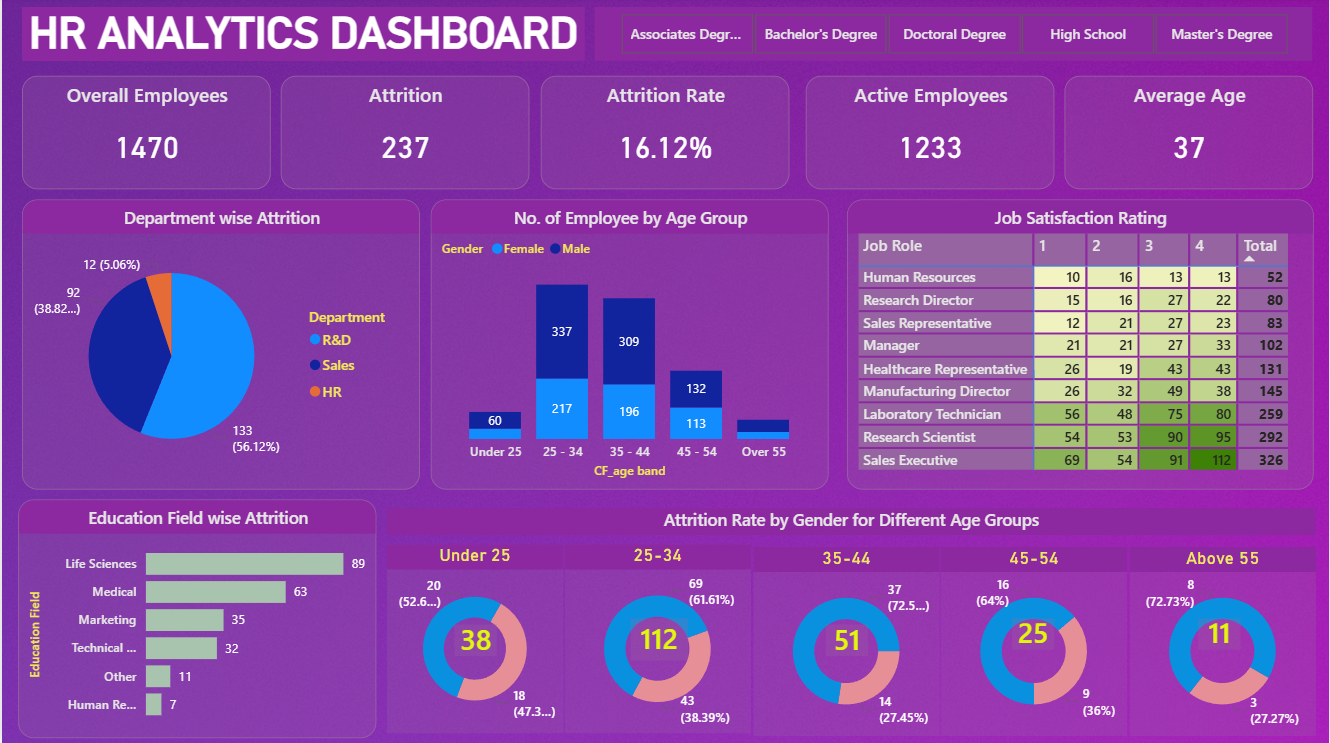

This screenshot's page, from the dashboard's own definition file:
{"tool":"powerbi","page":{"name":"Page 1","canvas":[1280,720],"ordinal":0},"visuals":[{"type":"card","title":"Overall Employees","fields":{"Values":["Sum(HR data.Employee Count)"]},"box":[19.2,75.5,240.1,109.8],"z":0},{"type":"card","title":"Attrition","fields":{"Values":["Sum(HR data.Attrition Count)"]},"box":[269,75.5,240.1,109.8],"z":1000},{"type":"card","title":"Attrition Rate","fields":{"Values":["HR data.Attrition Rate"]},"box":[520.1,75.5,240.1,109.8],"z":2000},{"type":"card","title":"Active Employees","fields":{"Values":["HR data.Active Employees"]},"box":[775.3,75.5,240.1,109.8],"z":3000},{"type":"card","title":"Average Age","fields":{"Values":["Avg(HR data.Age)"]},"box":[1025,75.5,240.1,109.8],"z":4000},{"type":"pieChart","title":"Department wise Attrition","fields":{"Category":["HR data.Department"],"Y":["Sum(HR data.Attrition Count)"]},"box":[19.2,194.9,384.2,279.9],"z":5000},{"type":"columnChart","title":"No. of Employee by Age Group","fields":{"Category":["HR data.CF_age band"],"Y":["Sum(HR data.Employee Count)"],"Series":["HR data.Gender"]},"box":[414.4,194.9,384.2,279.9],"z":6000},{"type":"pivotTable","title":"Job Satisfaction Rating","fields":{"Rows":["HR data.Job Role"],"Columns":["HR data.Job Satisfaction"],"Values":["Sum(HR data.Employee Count)"]},"box":[815.1,194.9,450.1,279.9],"z":7000},{"type":"barChart","title":" Education Field wise Attrition","fields":{"Category":["HR data.Education Field"],"Y":["Sum(HR data.Attrition Count)"]},"box":[15.1,484.4,345.8,230.5],"z":8000},{"type":"donutChart","title":"Under 25","fields":{"Category":["HR data.Gender"],"Y":["Sum(HR data.Attrition Count)"],"Series":["HR data.CF_age band"]},"box":[371.6,528.4,170.1,182.2],"z":9000},{"type":"textbox","title":"Attrition Rate by Gender for Different Age Groups","box":[371.6,493.4,896.4,25.3],"z":10000},{"type":"donutChart","title":"25-34","fields":{"Category":["HR data.Gender"],"Y":["Sum(HR data.Attrition Count)"],"Series":["HR data.CF_age band"]},"box":[543.4,528.3,179.8,182.5],"z":11000},{"type":"donutChart","title":"35-44","fields":{"Category":["HR data.Gender"],"Y":["Sum(HR data.Attrition Count)"],"Series":["HR data.CF_age band"]},"box":[725.1,530.8,179.8,182.2],"z":12000},{"type":"donutChart","title":"45-54","fields":{"Category":["HR data.Gender"],"Y":["Sum(HR data.Attrition Count)"],"Series":["HR data.CF_age band"]},"box":[906,530.8,179.8,182.2],"z":13000},{"type":"donutChart","title":"Above 55","fields":{"Category":["HR data.Gender"],"Y":["Sum(HR data.Attrition Count)"],"Series":["HR data.CF_age band"]},"box":[1088.2,530.8,179.8,182.2],"z":14000},{"type":"card","fields":{"Values":["Sum(HR data.Attrition Count)"]},"box":[436.4,605.1,41.2,30.2],"z":15000},{"type":"card","fields":{"Values":["Sum(HR data.Attrition Count)"]},"box":[606.5,599.7,54.9,41.2],"z":16000},{"type":"card","fields":{"Values":["Sum(HR data.Attrition Count)"]},"box":[794.5,605.1,41.2,30.2],"z":17000},{"type":"card","fields":{"Values":["Sum(HR data.Attrition Count)"]},"box":[974.3,599.7,41.2,30.2],"z":18000},{"type":"card","fields":{"Values":["Sum(HR data.Attrition Count)"]},"box":[1154,599.7,41.2,30.2],"z":19000},{"type":"textbox","title":"HR ANALYTICS DASHBOARD","box":[19.2,9.6,543.4,52.1],"z":20000},{"type":"slicer","fields":{"Values":["HR data.Education"]},"box":[572.2,9.6,693,52.1],"z":21000}]}

Visuals, with their boxes in screenshot pixels (x1, y1, x2, y2), scaled from the page's 1280x720 canvas onto the 1330x743 screenshot:
"Overall Employees" card: <bbox>20, 78, 269, 191</bbox>
"Attrition" card: <bbox>280, 78, 529, 191</bbox>
"Attrition Rate" card: <bbox>540, 78, 790, 191</bbox>
"Active Employees" card: <bbox>806, 78, 1055, 191</bbox>
"Average Age" card: <bbox>1065, 78, 1315, 191</bbox>
"Department wise Attrition" pieChart: <bbox>20, 201, 419, 490</bbox>
"No. of Employee by Age Group" columnChart: <bbox>431, 201, 830, 490</bbox>
"Job Satisfaction Rating" pivotTable: <bbox>847, 201, 1315, 490</bbox>
" Education Field wise Attrition" barChart: <bbox>16, 500, 375, 738</bbox>
"Under 25" donutChart: <bbox>386, 545, 563, 733</bbox>
"Attrition Rate by Gender for Different Age Groups" textbox: <bbox>386, 509, 1318, 535</bbox>
"25-34" donutChart: <bbox>565, 545, 751, 734</bbox>
"35-44" donutChart: <bbox>753, 548, 940, 736</bbox>
"45-54" donutChart: <bbox>941, 548, 1128, 736</bbox>
"Above 55" donutChart: <bbox>1131, 548, 1318, 736</bbox>
card - Sum(HR data.Attrition Count): <bbox>453, 624, 496, 656</bbox>
card - Sum(HR data.Attrition Count): <bbox>630, 619, 687, 661</bbox>
card - Sum(HR data.Attrition Count): <bbox>826, 624, 868, 656</bbox>
card - Sum(HR data.Attrition Count): <bbox>1012, 619, 1055, 650</bbox>
card - Sum(HR data.Attrition Count): <bbox>1199, 619, 1242, 650</bbox>
"HR ANALYTICS DASHBOARD" textbox: <bbox>20, 10, 585, 64</bbox>
slicer - HR data.Education: <bbox>595, 10, 1315, 64</bbox>
